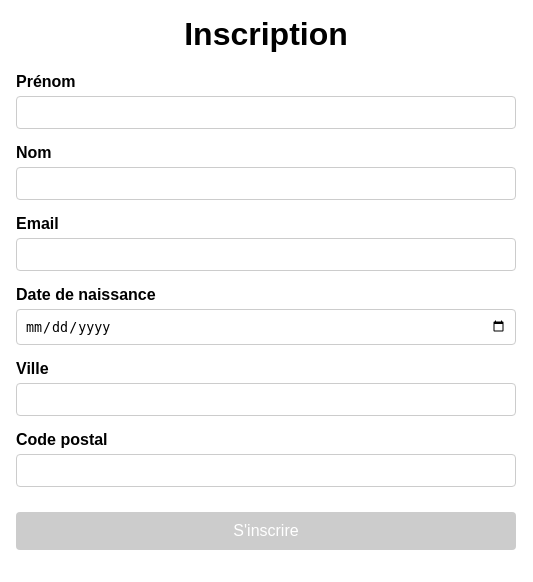
it: Scénarios de navigation E2E › Scénario Erreur 500 : serveur down, affiche une alerte et l UI reste stable
Type "Jean" into the field with test id "firstName" at (266, 113), box x1=16 y1=96 x2=516 y2=129
Type "Dupont" into the field with test id "lastName" at (266, 184), box x1=16 y1=167 x2=516 y2=200
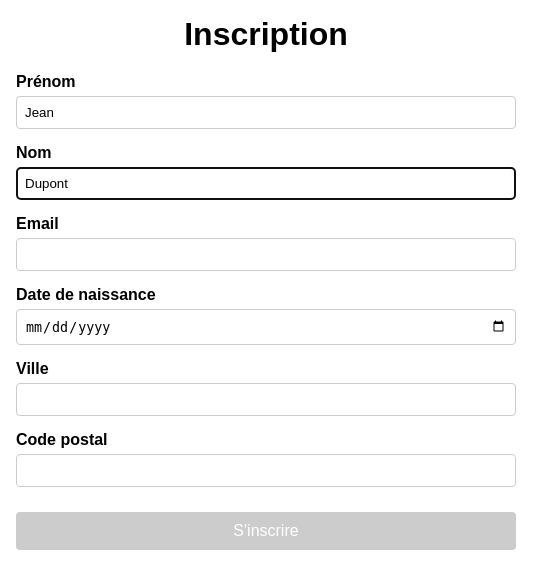
Type "jean@test.com" into the field with test id "email" at (266, 255), box x1=16 y1=238 x2=516 y2=271
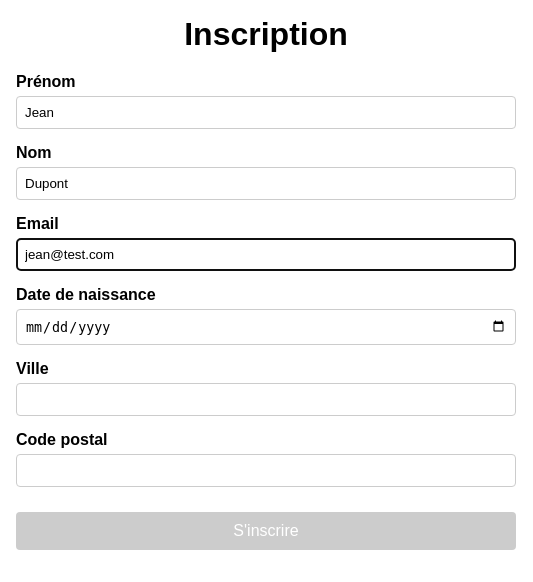
Type "1995-06-15" into the date field with test id "birthDate" at (266, 327), box x1=16 y1=309 x2=516 y2=344
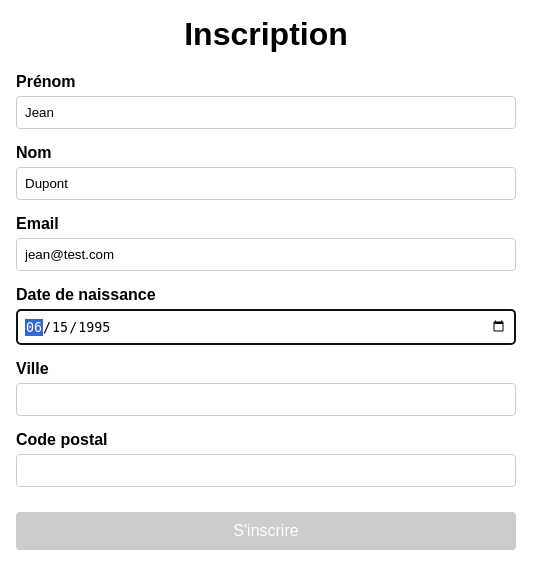
Type "Lyon" into the field with test id "city" at (266, 400), box x1=16 y1=383 x2=516 y2=416
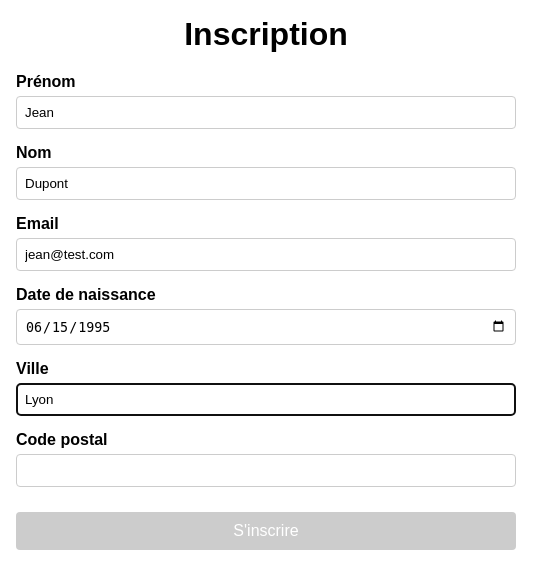
Type "69001" into the field with test id "postalCode" at (266, 471), box x1=16 y1=454 x2=516 y2=487
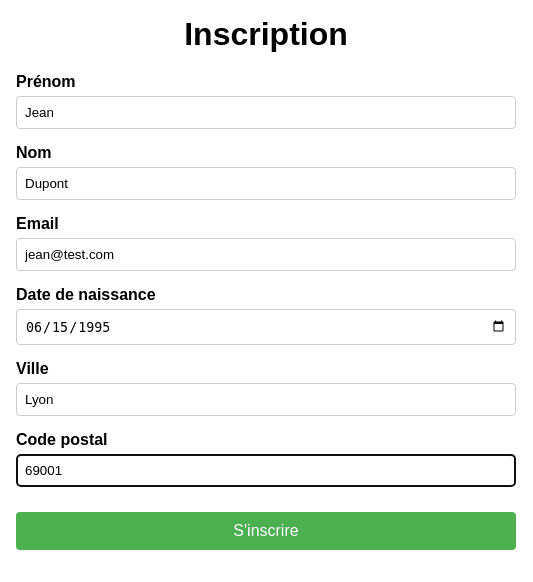
Click the button with test id "submit" at (266, 531), box x1=16 y1=512 x2=516 y2=550
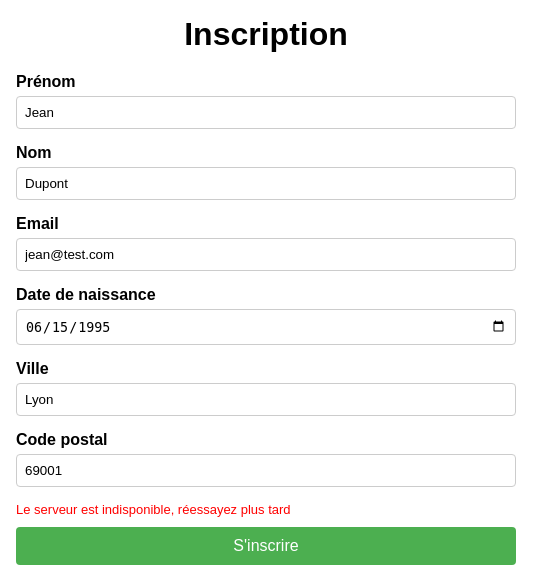
Check: the heading "Inscription" is shown, box x1=184 y1=16 x2=348 y2=52
Check: the text with test id "error-api" shows "Le serveur est indisponible", box x1=16 y1=502 x2=291 y2=517
